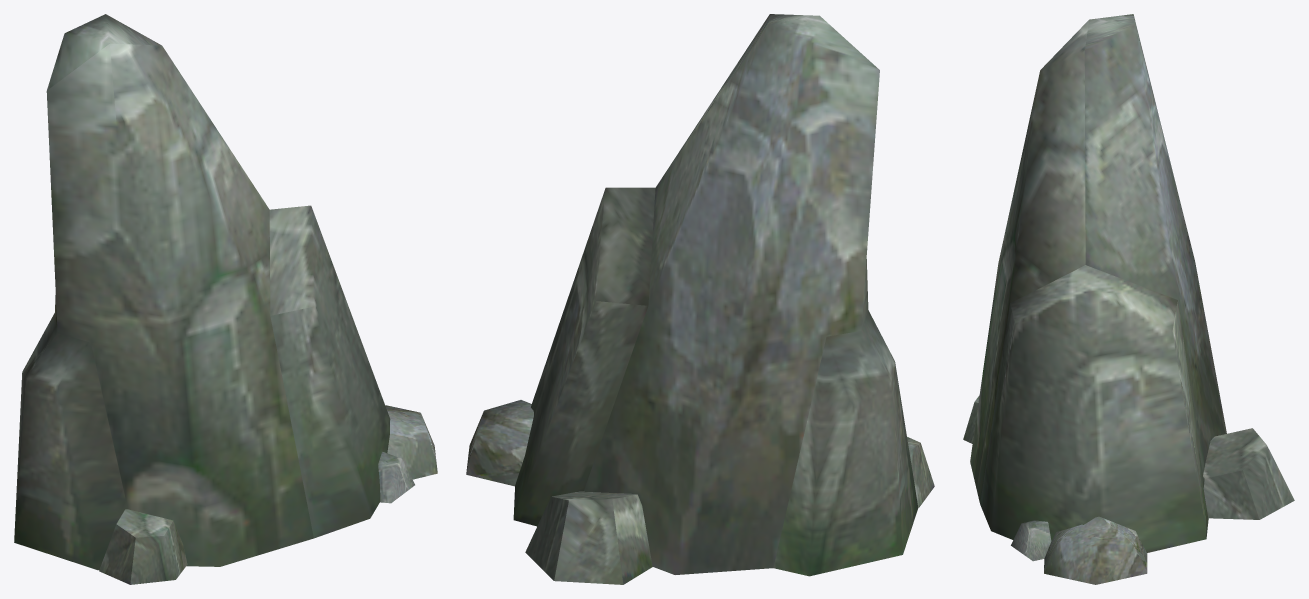
File: yw_yanziwu_shidui02.FBX
3 renders of one model, left to right at view 1: azimuth 30°, elevation 25°; view 2: azimuth 150°, elevation 25°; view 3: azimuth 270°, elevation 25°, orthographic. The views are drawn at different scales.
Visible parts, largest first — view 1: yw_yanziwu_shidui02; view 2: yw_yanziwu_shidui02; view 3: yw_yanziwu_shidui02.
Part boxes in pixels (bbox=[...]): yw_yanziwu_shidui02: bbox=[14, 14, 437, 584]; yw_yanziwu_shidui02: bbox=[466, 14, 934, 584]; yw_yanziwu_shidui02: bbox=[963, 14, 1294, 584].
Bounding box in the file's own units: 122 × 138 × 96.32.
